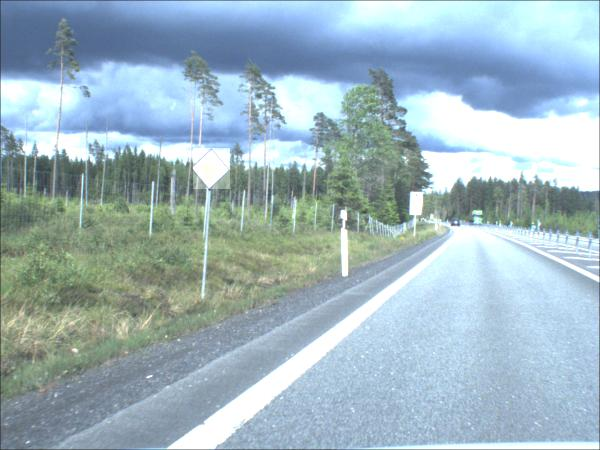PRIORITY_ROAD: (193, 149, 231, 191)
